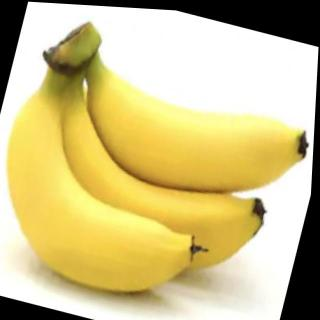banana: (13, 87, 289, 293), (0, 86, 241, 316), (68, 59, 318, 220)
